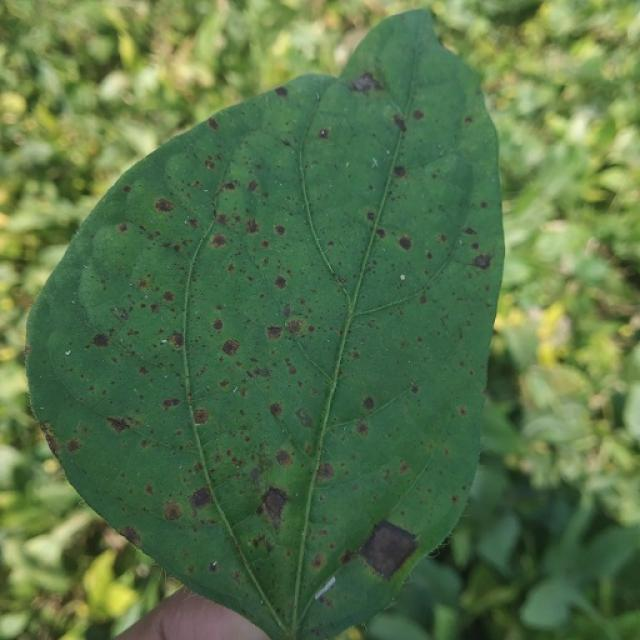Anthracnose: (357, 511, 417, 578), (252, 478, 294, 533), (343, 66, 389, 103)
